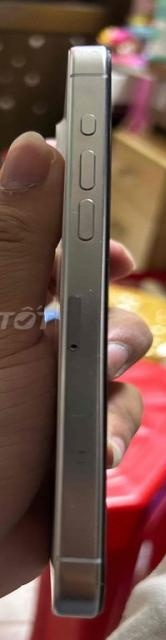scratch: (71, 284, 102, 379), (65, 43, 114, 58), (64, 408, 99, 420), (75, 443, 91, 466), (65, 499, 80, 509), (67, 205, 82, 215), (97, 236, 107, 244)
